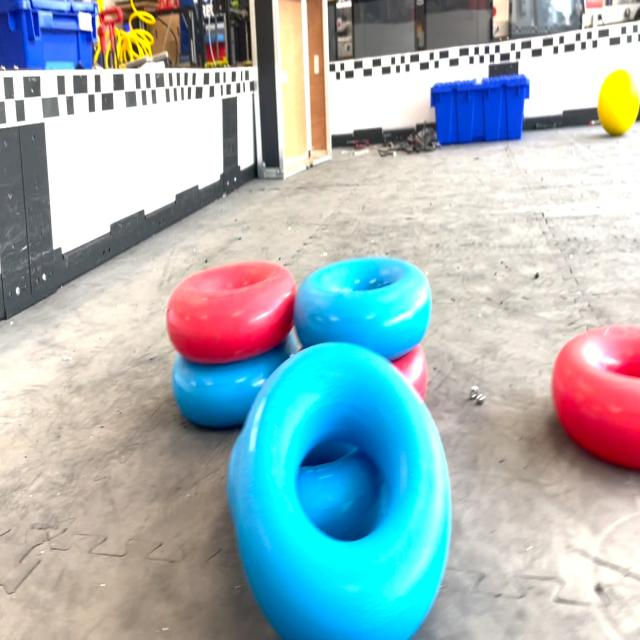Blue-Ring: (228, 342, 451, 638), (294, 258, 431, 360), (172, 333, 298, 429)
Red-Ring: (166, 262, 296, 363), (552, 324, 640, 469)
